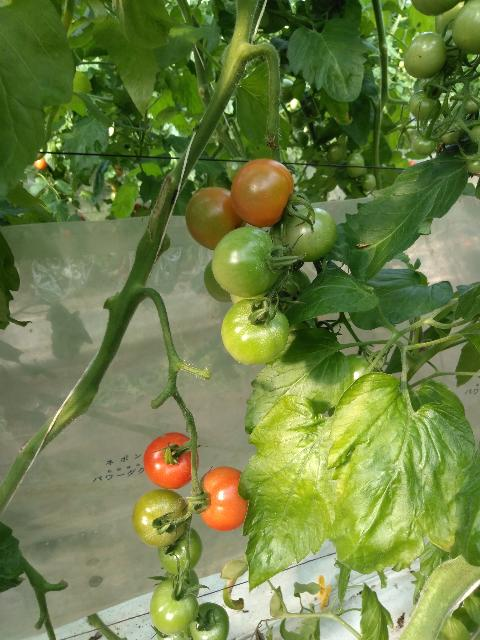l_fully_ripened: (144, 431, 199, 489)
l_green: (212, 226, 279, 298), (220, 297, 289, 365), (133, 489, 189, 548), (281, 207, 338, 263), (150, 579, 200, 635), (157, 524, 202, 576), (402, 32, 447, 80), (269, 266, 311, 313), (451, 0, 479, 55), (190, 603, 230, 640), (203, 259, 232, 303), (162, 570, 200, 597), (408, 90, 441, 121), (434, 2, 465, 34), (410, 0, 460, 17), (413, 136, 435, 156), (441, 127, 460, 144), (464, 96, 480, 114), (465, 156, 479, 173), (469, 124, 480, 143)
l_half_ripened: (231, 159, 296, 227), (185, 186, 242, 250), (197, 465, 250, 532)
